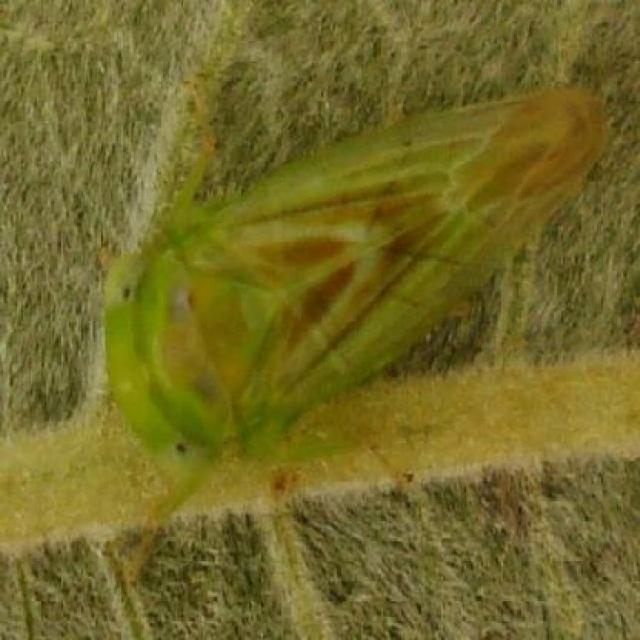green-leafhopper: (100, 70, 612, 585)
